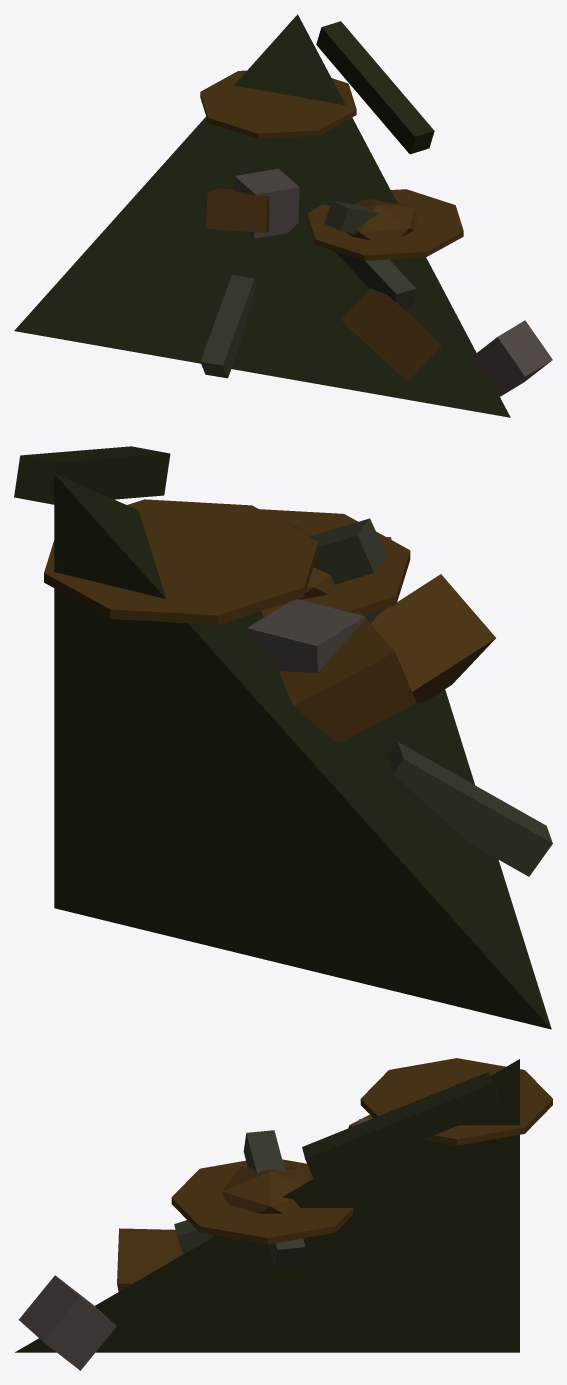
File: SM_PilaZombi_RemateIzq_Altura2_s2_LOD1.fbx
3 renders of one model, top to bottom at view 1: azimuth 30°, elevation 25°; view 2: azimuth 150°, elevation 25°; view 3: azimuth 270°, elevation 25°, orthographic. The views are drawn at different scales.
Visible parts, largest first — view 1: SM_pila_zombis_v11_LOD1; view 2: SM_pila_zombis_v11_LOD1; view 3: SM_pila_zombis_v11_LOD1.
Boxes of the visible parts, x1=… form: SM_pila_zombis_v11_LOD1: x1=14, y1=14, x2=552, y2=417; SM_pila_zombis_v11_LOD1: x1=14, y1=446, x2=552, y2=1029; SM_pila_zombis_v11_LOD1: x1=15, y1=1058, x2=552, y2=1370.
Bounding box in the file's own units: 1.93 × 1.37 × 2.24.
